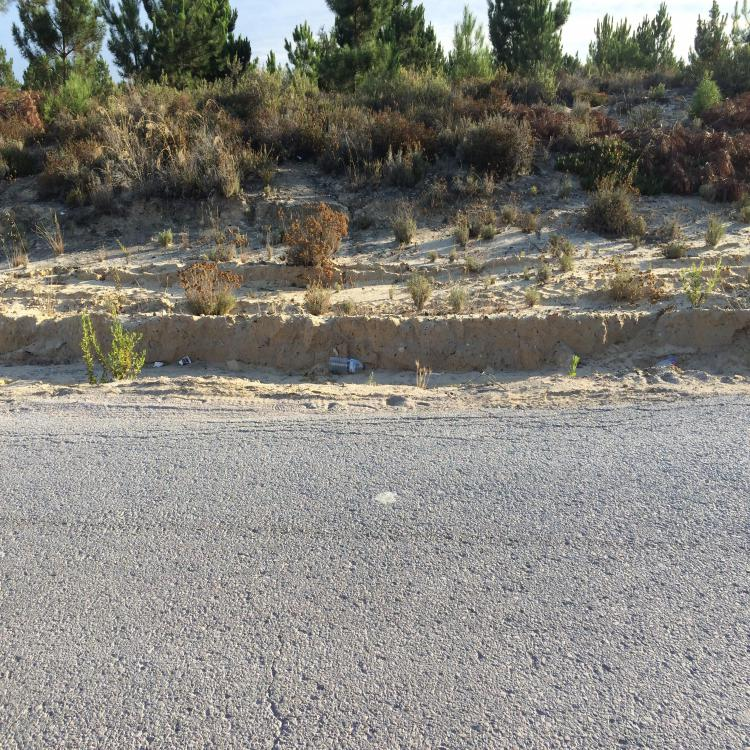Clear plastic bottle: (329, 357, 366, 374), (654, 358, 676, 366)
Other plastic: (178, 356, 192, 366)
Unlabeled litter: (153, 362, 165, 367)
